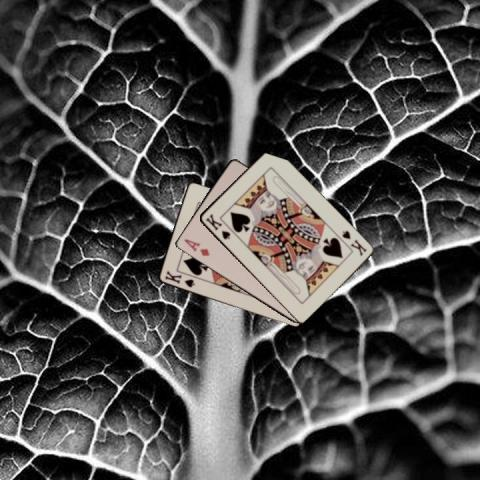Ad: (180, 236, 210, 257)
Ks: (339, 228, 368, 258), (203, 210, 231, 240), (162, 267, 196, 289)
